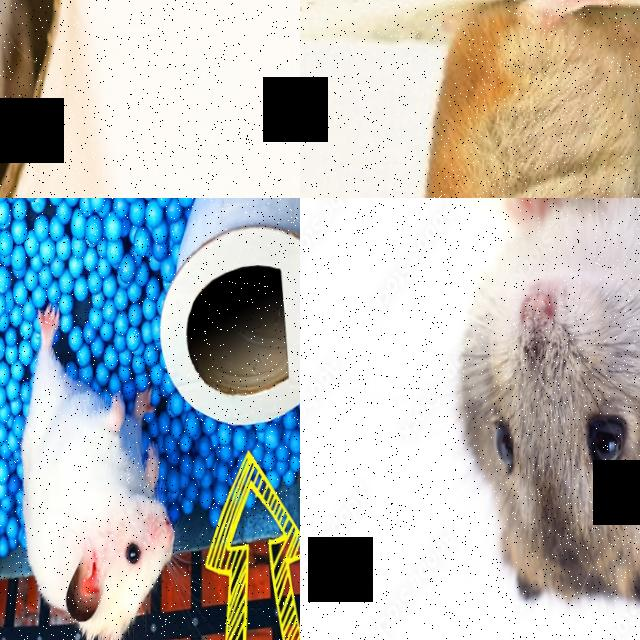hamster: (449, 198, 640, 616), (6, 300, 179, 640), (408, 0, 640, 198)
